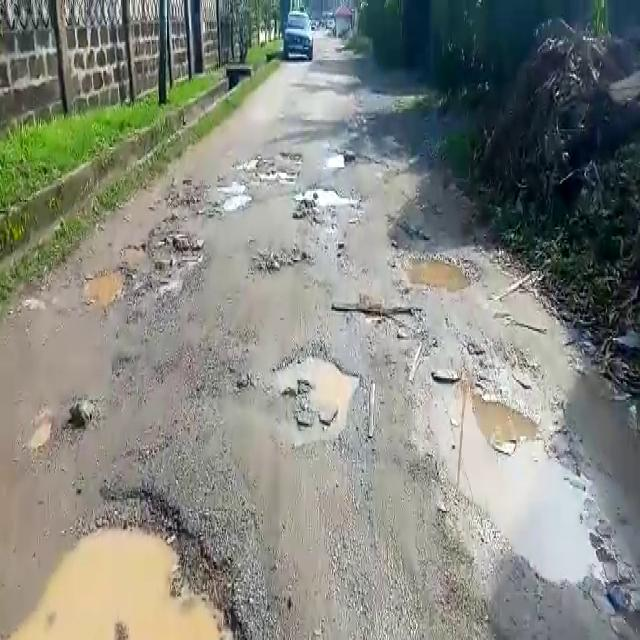Pothole: (419, 381, 610, 594), (9, 481, 256, 640), (272, 347, 356, 435), (121, 229, 203, 288), (393, 239, 479, 292), (334, 299, 422, 328), (86, 265, 132, 309), (250, 244, 310, 274), (241, 156, 300, 182), (296, 186, 359, 208), (206, 186, 255, 214)
